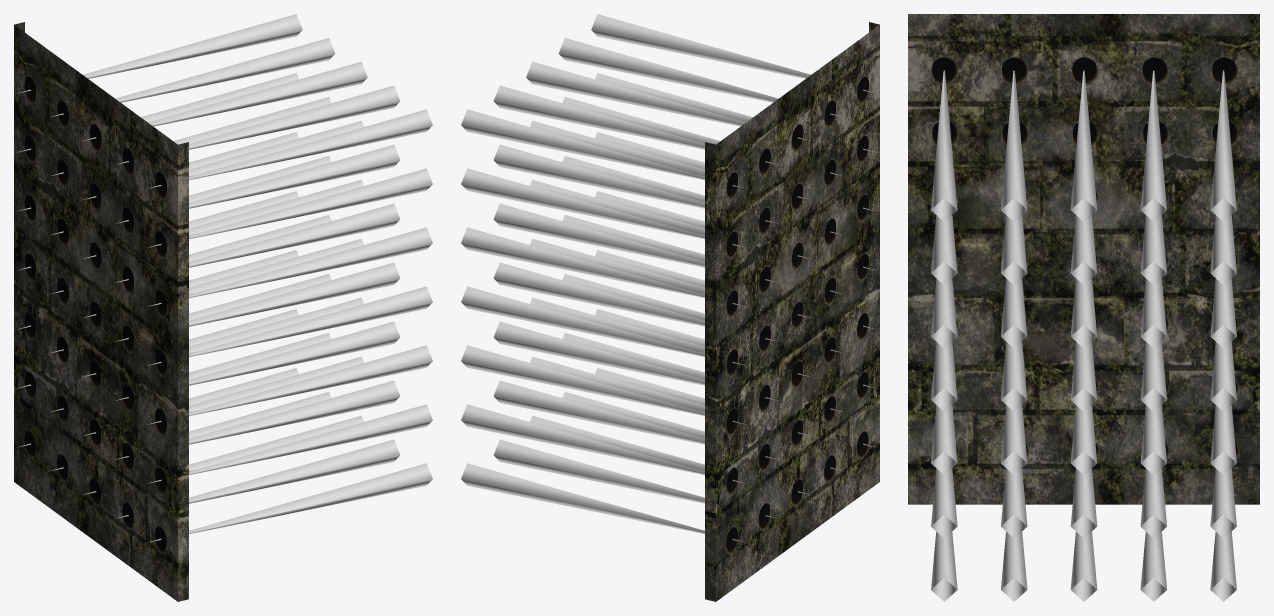
File: 006_hariwana_01_05.fbx
The picture shows the model from 3 angles, left to right: view 1: azimuth 30°, elevation 25°; view 2: azimuth 150°, elevation 25°; view 3: azimuth 270°, elevation 25°; orthographic projection. The views are drawn at different scales.
Visible parts, largest first — view 1: Box003, Box002; view 2: Box003, Box002; view 3: Box003, Box002.
Boxes of the visible parts, <box> form: Box003: <box>14,22,188,601</box>; Box002: <box>18,14,432,542</box>; Box003: <box>705,22,879,601</box>; Box002: <box>461,14,875,542</box>; Box003: <box>908,14,1259,504</box>; Box002: <box>931,70,1236,601</box>.
Size of the model in its own units: 50.62 by 78.74 by 51.18.
